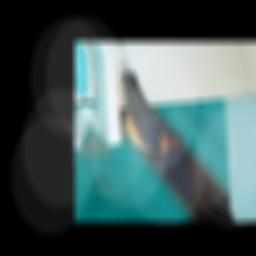Swallow: (105, 50, 188, 158)
